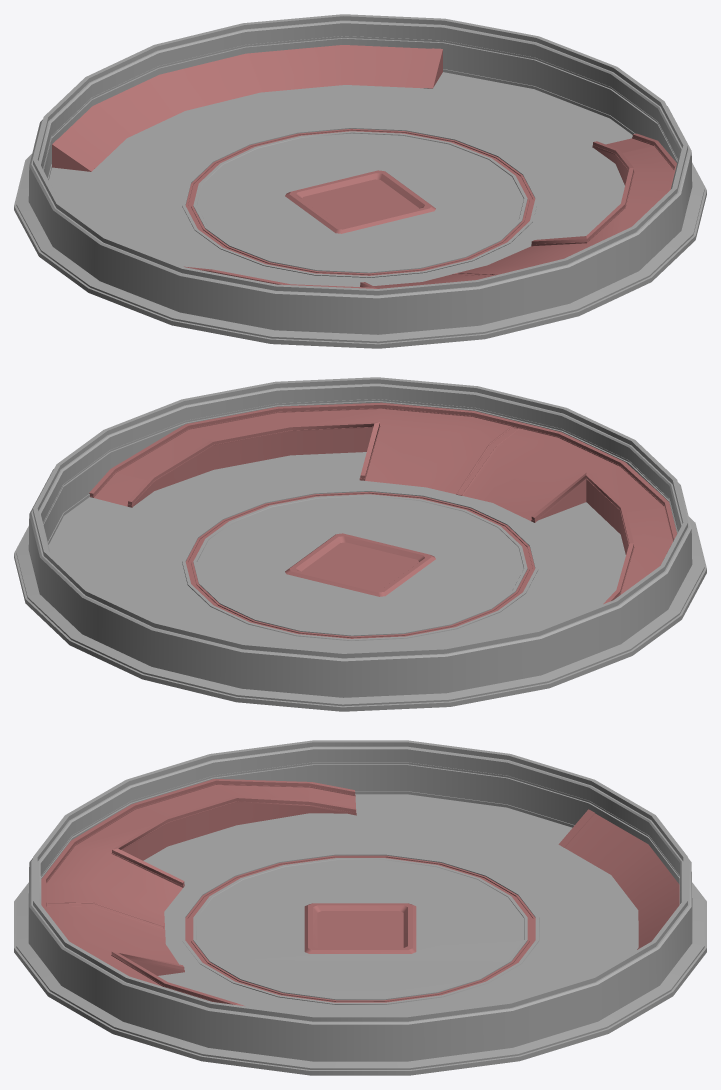
Rendered from ArenaZack.fbx.
3 views of the same model, one above another, from view 1: azimuth 30°, elevation 25°; view 2: azimuth 150°, elevation 25°; view 3: azimuth 270°, elevation 25° (orthographic).
Parts seen in each view (by area): view 1: EstadioZack, Rampa_002, Rampa_001, AnilloSierras, trampaCaida_001, trampaCaida_002, trampaCaida_003; view 2: EstadioZack, Rampa_001, AnilloSierras, trampaCaida_001, trampaCaida_002, trampaCaida_003, MuroObstaculo_001; view 3: EstadioZack, Rampa_001, Rampa_002, AnilloSierras, trampaCaida_001, trampaCaida_003, trampaCaida_002, MuroObstaculo_001.
Part boxes in pixels (left/top/right/bottom): EstadioZack: left=14, top=14, right=706, bottom=348; Rampa_002: left=52, top=45, right=442, bottom=171; Rampa_001: left=184, top=133, right=676, bottom=288; AnilloSierras: left=185, top=128, right=535, bottom=275; trampaCaida_001: left=285, top=170, right=435, bottom=233; trampaCaida_002: left=339, top=179, right=418, bottom=217; trampaCaida_003: left=302, top=188, right=379, bottom=226; EstadioZack: left=14, top=377, right=706, bottom=711; Rampa_001: left=89, top=402, right=676, bottom=604; AnilloSierras: left=185, top=491, right=535, bottom=638; trampaCaida_001: left=285, top=533, right=435, bottom=596; trampaCaida_002: left=302, top=542, right=381, bottom=580; trampaCaida_003: left=341, top=551, right=418, bottom=589; MuroObstaculo_001: left=456, top=426, right=519, bottom=495; EstadioZack: left=14, top=740, right=706, bottom=1075; Rampa_001: left=41, top=779, right=356, bottom=1006; Rampa_002: left=558, top=809, right=679, bottom=949; AnilloSierras: left=185, top=855, right=535, bottom=1002; trampaCaida_001: left=304, top=903, right=416, bottom=953; trampaCaida_003: left=317, top=911, right=403, bottom=930; trampaCaida_002: left=317, top=930, right=403, bottom=947; MuroObstaculo_001: left=46, top=902, right=164, bottom=929.
Bounding box in the file's own units: 130 × 22.65 × 130.
